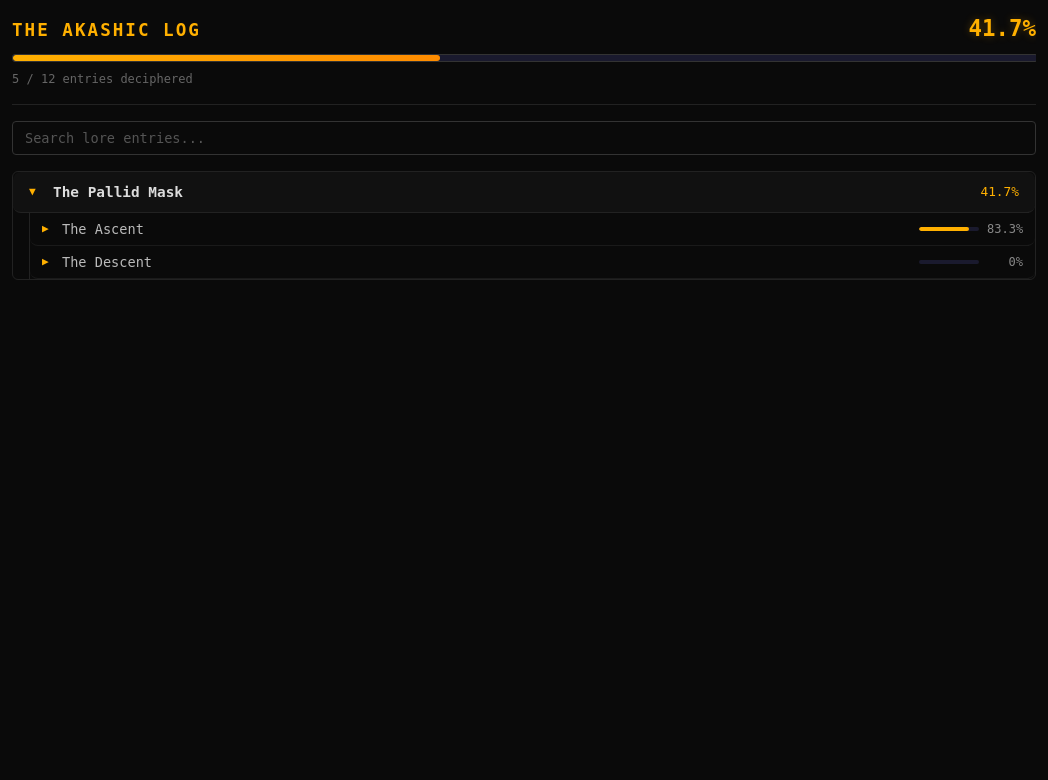
it: AkashicLog Component › expands scene to show beats and beat detail
Click the text "The Ascent": (103, 229) x1=62 y1=221 x2=144 y2=237
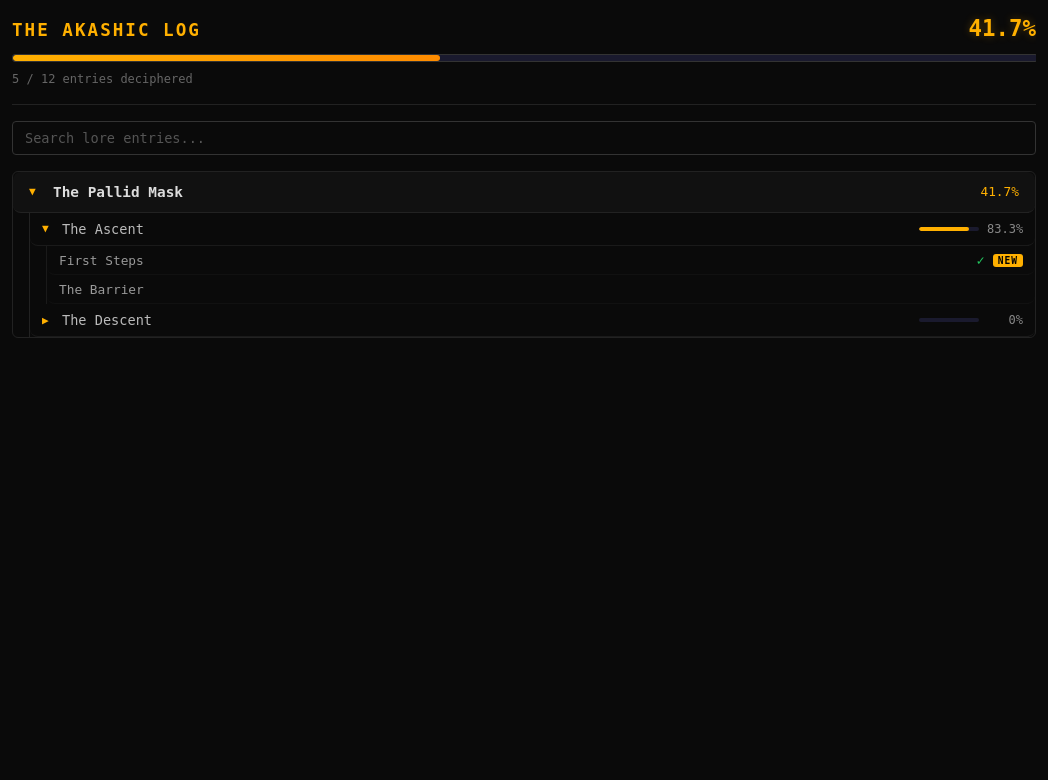
Click the text "First Steps": (101, 260) x1=59 y1=252 x2=144 y2=268
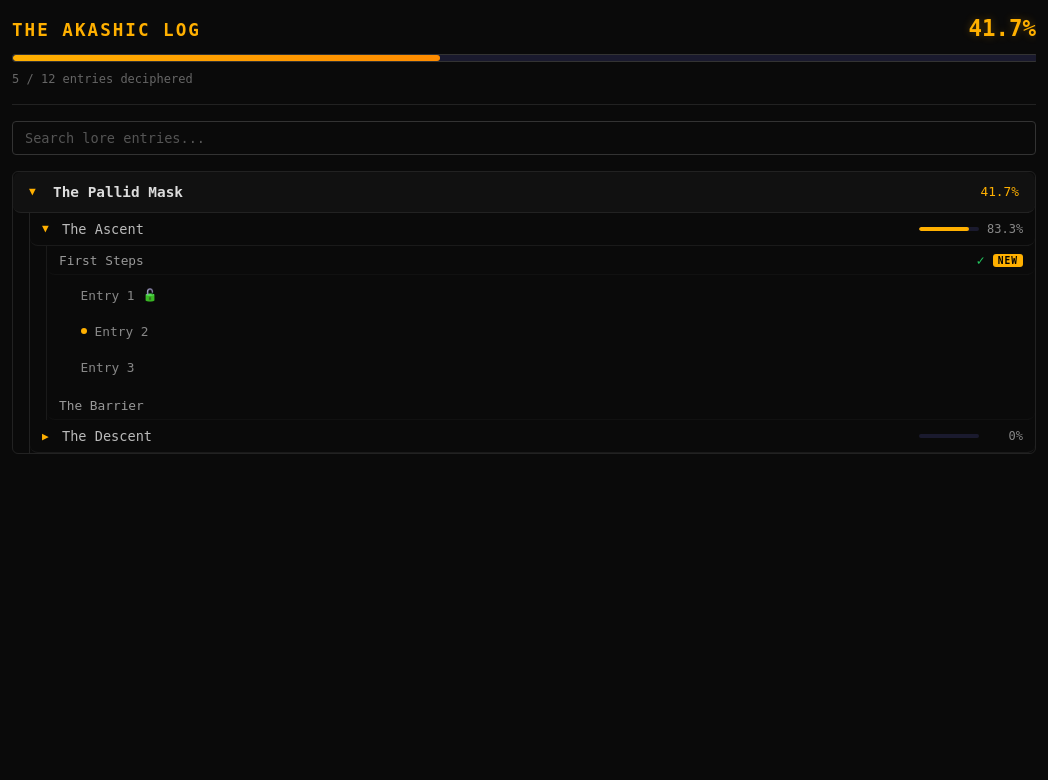
Now the text "Entry 1" is shown
Now the text "Entry 2" is shown, box x1=95 y1=322 x2=148 y2=341
Click a beat to expand its detail
Click the text "Entry 1": (108, 295) x1=81 y1=286 x2=134 y2=305
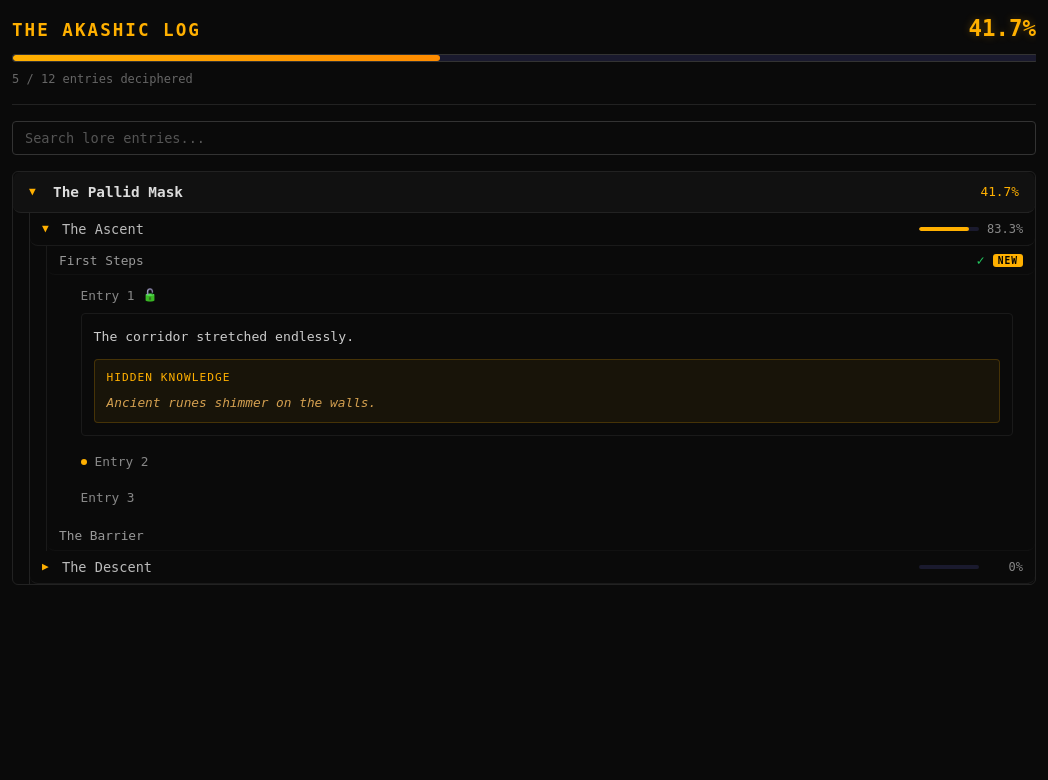
Now the text "The corridor stretched endlessly." is shown, box x1=94 y1=329 x2=354 y2=344
